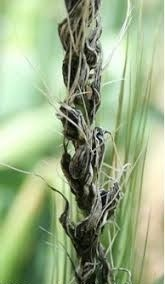Wheat Loose Smut: (52, 9, 126, 281)
